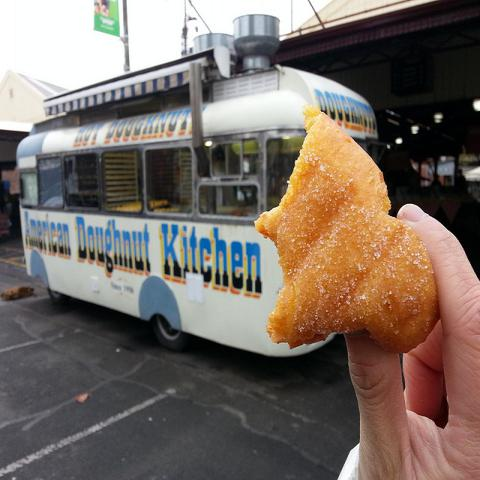bus: (15, 13, 376, 362)
